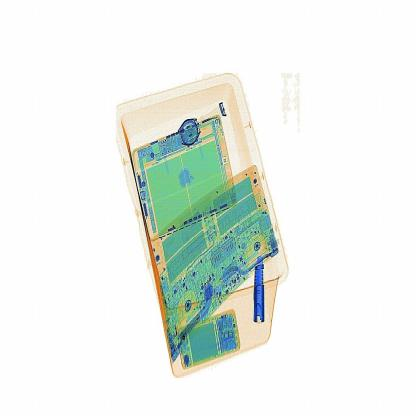pliers: (248, 251, 272, 327)
